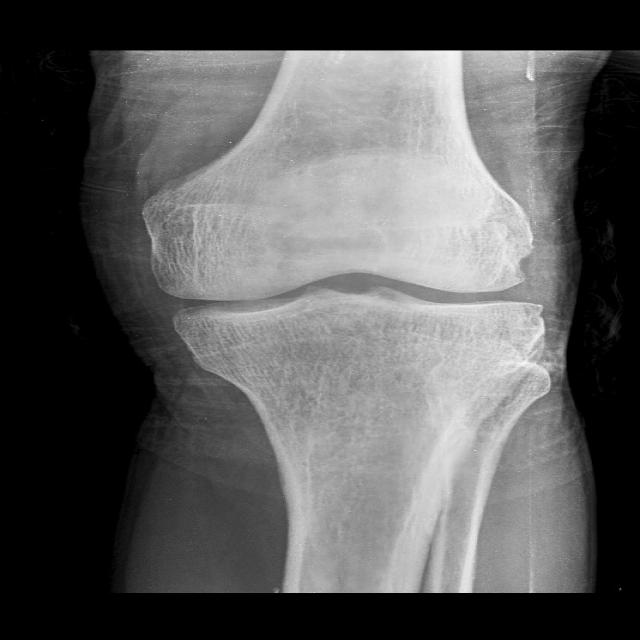osteo: (134, 172, 550, 351)
